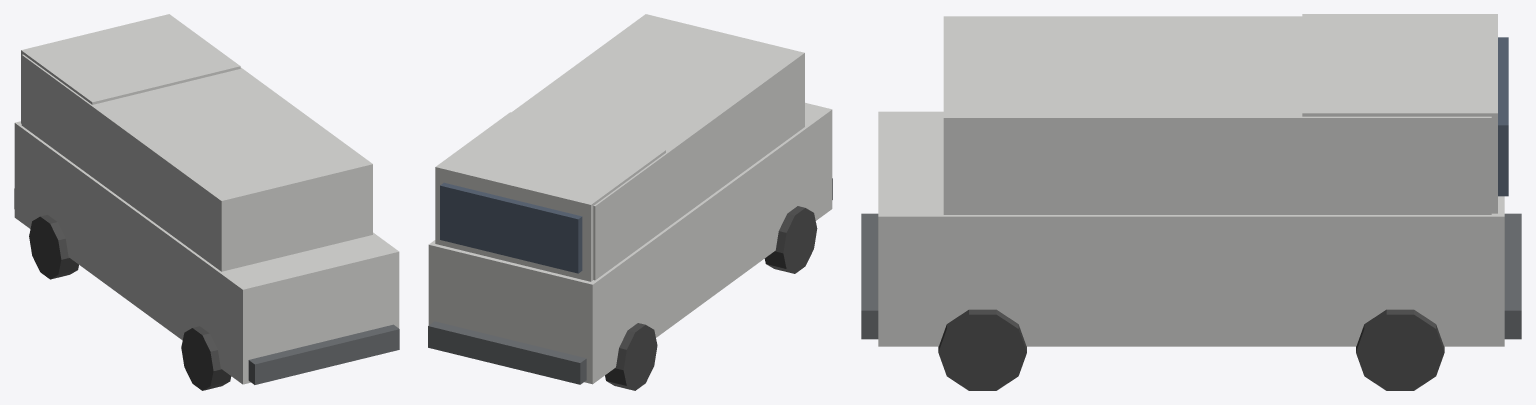
Rendered from Car_Van.glb.
3 renders of one model, left to right at view 1: azimuth 30°, elevation 25°; view 2: azimuth 150°, elevation 25°; view 3: azimuth 270°, elevation 25°, orthographic. The views are drawn at different scales.
Parts seen in each view (by area): view 1: Body, Wheel_RL, Wheel_FL; view 2: Body, Wheel_RL, Wheel_FL; view 3: Body, Wheel_FR, Wheel_RR.
Boxes of the visible parts, left/top/right/bottom form: Body: left=14, top=14, right=399, bottom=384; Wheel_RL: left=181, top=326, right=231, bottom=390; Wheel_FL: left=29, top=215, right=78, bottom=279; Body: left=428, top=14, right=832, bottom=384; Wheel_RL: left=764, top=206, right=817, bottom=273; Wheel_FL: left=605, top=323, right=657, bottom=390; Body: left=861, top=14, right=1521, bottom=346; Wheel_FR: left=1356, top=309, right=1444, bottom=390; Wheel_RR: left=938, top=309, right=1026, bottom=390.
Bounding box in the file's own units: 2.08 × 2.28 × 5.06.
